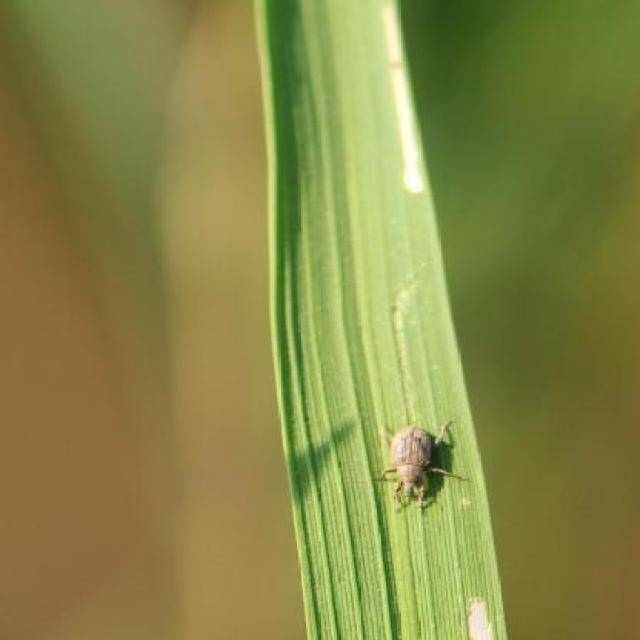rice-bug: (370, 418, 465, 514)
